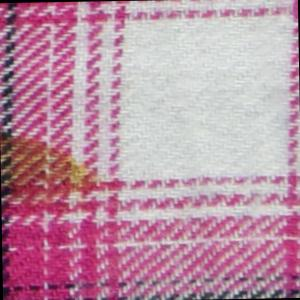Stain: (1, 129, 94, 208)
